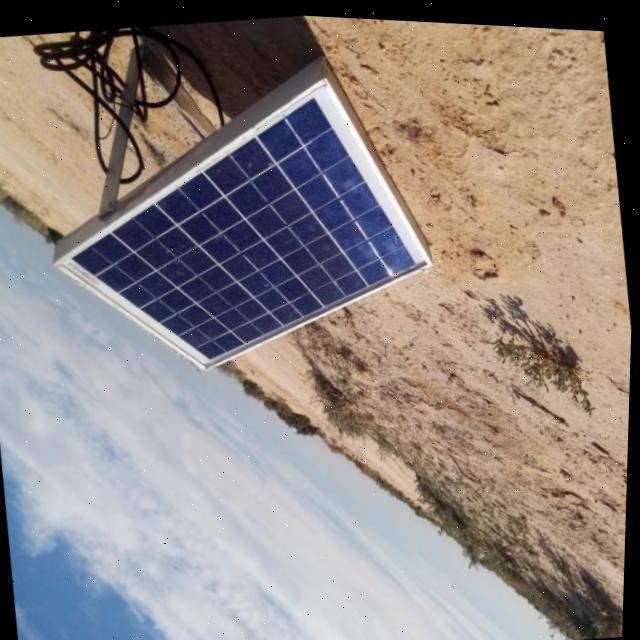Normal Solar Panel: (32, 52, 448, 394)
